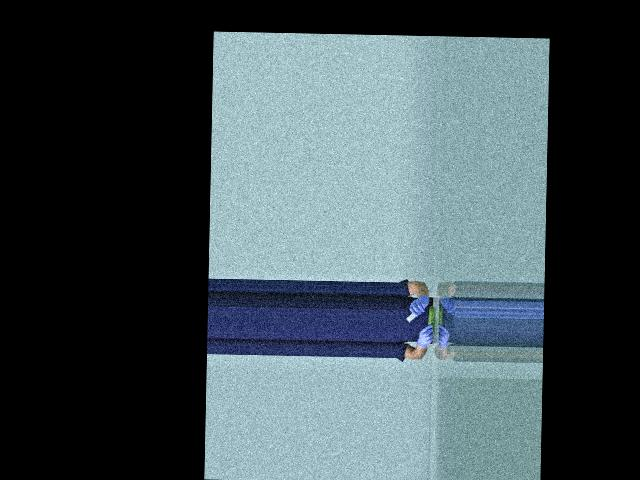cucumber: (428, 305, 435, 333)
